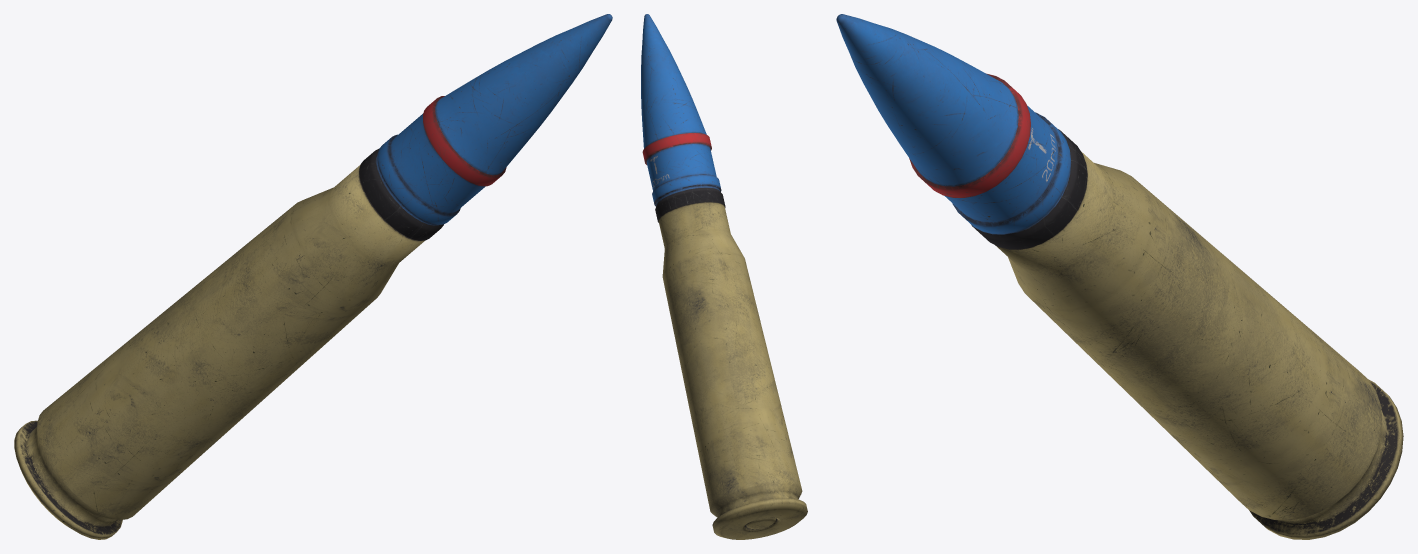
3 renders of one model, left to right at view 1: azimuth 30°, elevation 25°; view 2: azimuth 150°, elevation 25°; view 3: azimuth 270°, elevation 25°, orthographic. The views are drawn at different scales.
Visible parts, largest first — view 1: 20mm_low.005; view 2: 20mm_low.005; view 3: 20mm_low.005.
Part boxes in pixels (<box>): 20mm_low.005: <box>14,14,612,539</box>; 20mm_low.005: <box>641,14,807,539</box>; 20mm_low.005: <box>836,14,1403,539</box>.
Size of the model in its own units: 0.0643 by 0.0844 by 0.06.
Materials: 1 (1 with a texture image).
